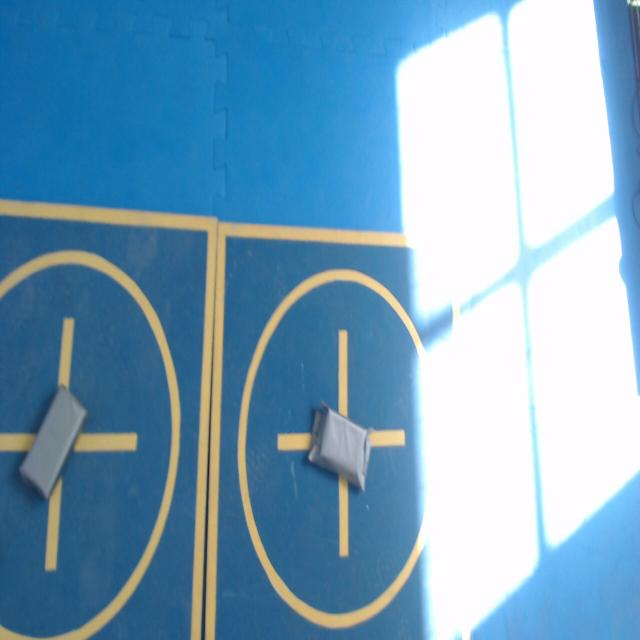direita: (20, 385, 87, 497)
esquerda: (308, 405, 370, 490)
